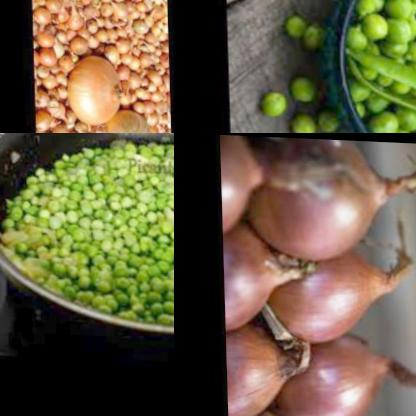onion: (251, 135, 411, 269), (30, 0, 171, 133), (251, 243, 405, 339), (257, 334, 408, 416), (223, 227, 308, 329), (225, 322, 314, 416), (221, 134, 285, 232), (63, 49, 128, 127), (97, 106, 162, 133)
peas: (0, 133, 174, 331), (337, 0, 416, 133), (277, 0, 327, 53), (258, 86, 291, 124), (281, 73, 318, 103), (311, 97, 341, 133), (286, 114, 322, 133)
